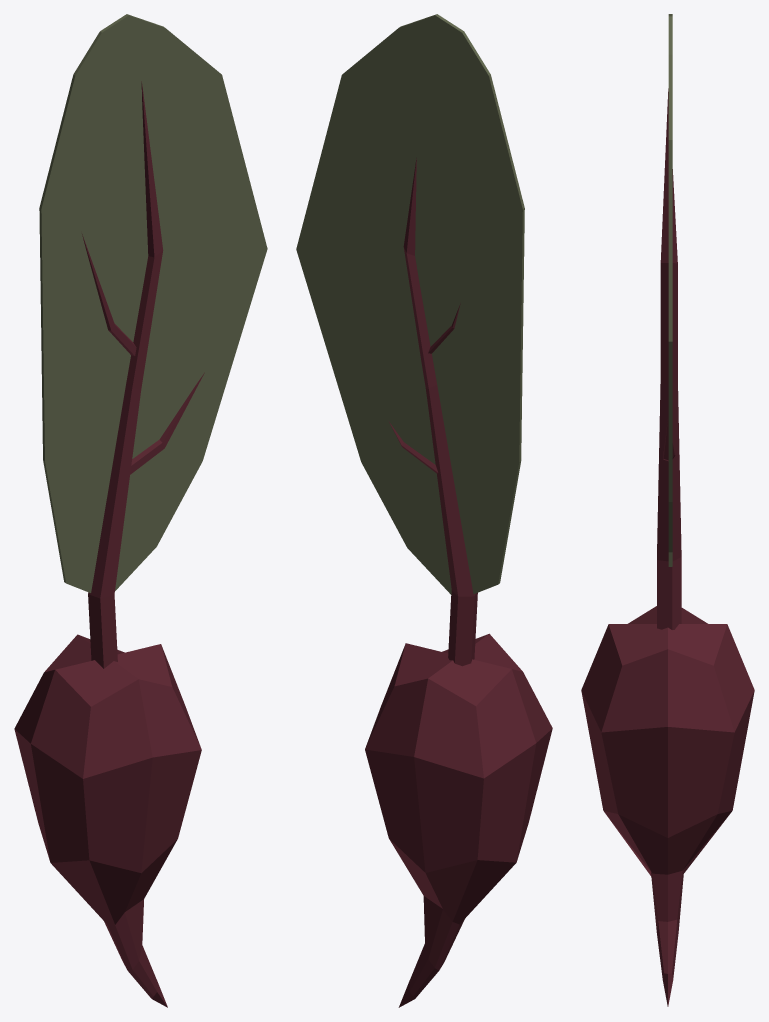
The model's file is beet_2.glb.
3 renders of one model, left to right at view 1: azimuth 30°, elevation 25°; view 2: azimuth 150°, elevation 25°; view 3: azimuth 270°, elevation 25°, orthographic. The views are drawn at different scales.
Visible parts, largest first — view 1: Beet_2; view 2: Beet_2; view 3: Beet_2.
Boxes of the visible parts, x1=… form: Beet_2: x1=14, y1=14, x2=267, y2=1007; Beet_2: x1=296, y1=14, x2=552, y2=1007; Beet_2: x1=581, y1=14, x2=754, y2=1006.
Size of the model in its own units: 0.2131 by 0.8597 by 0.1389.
